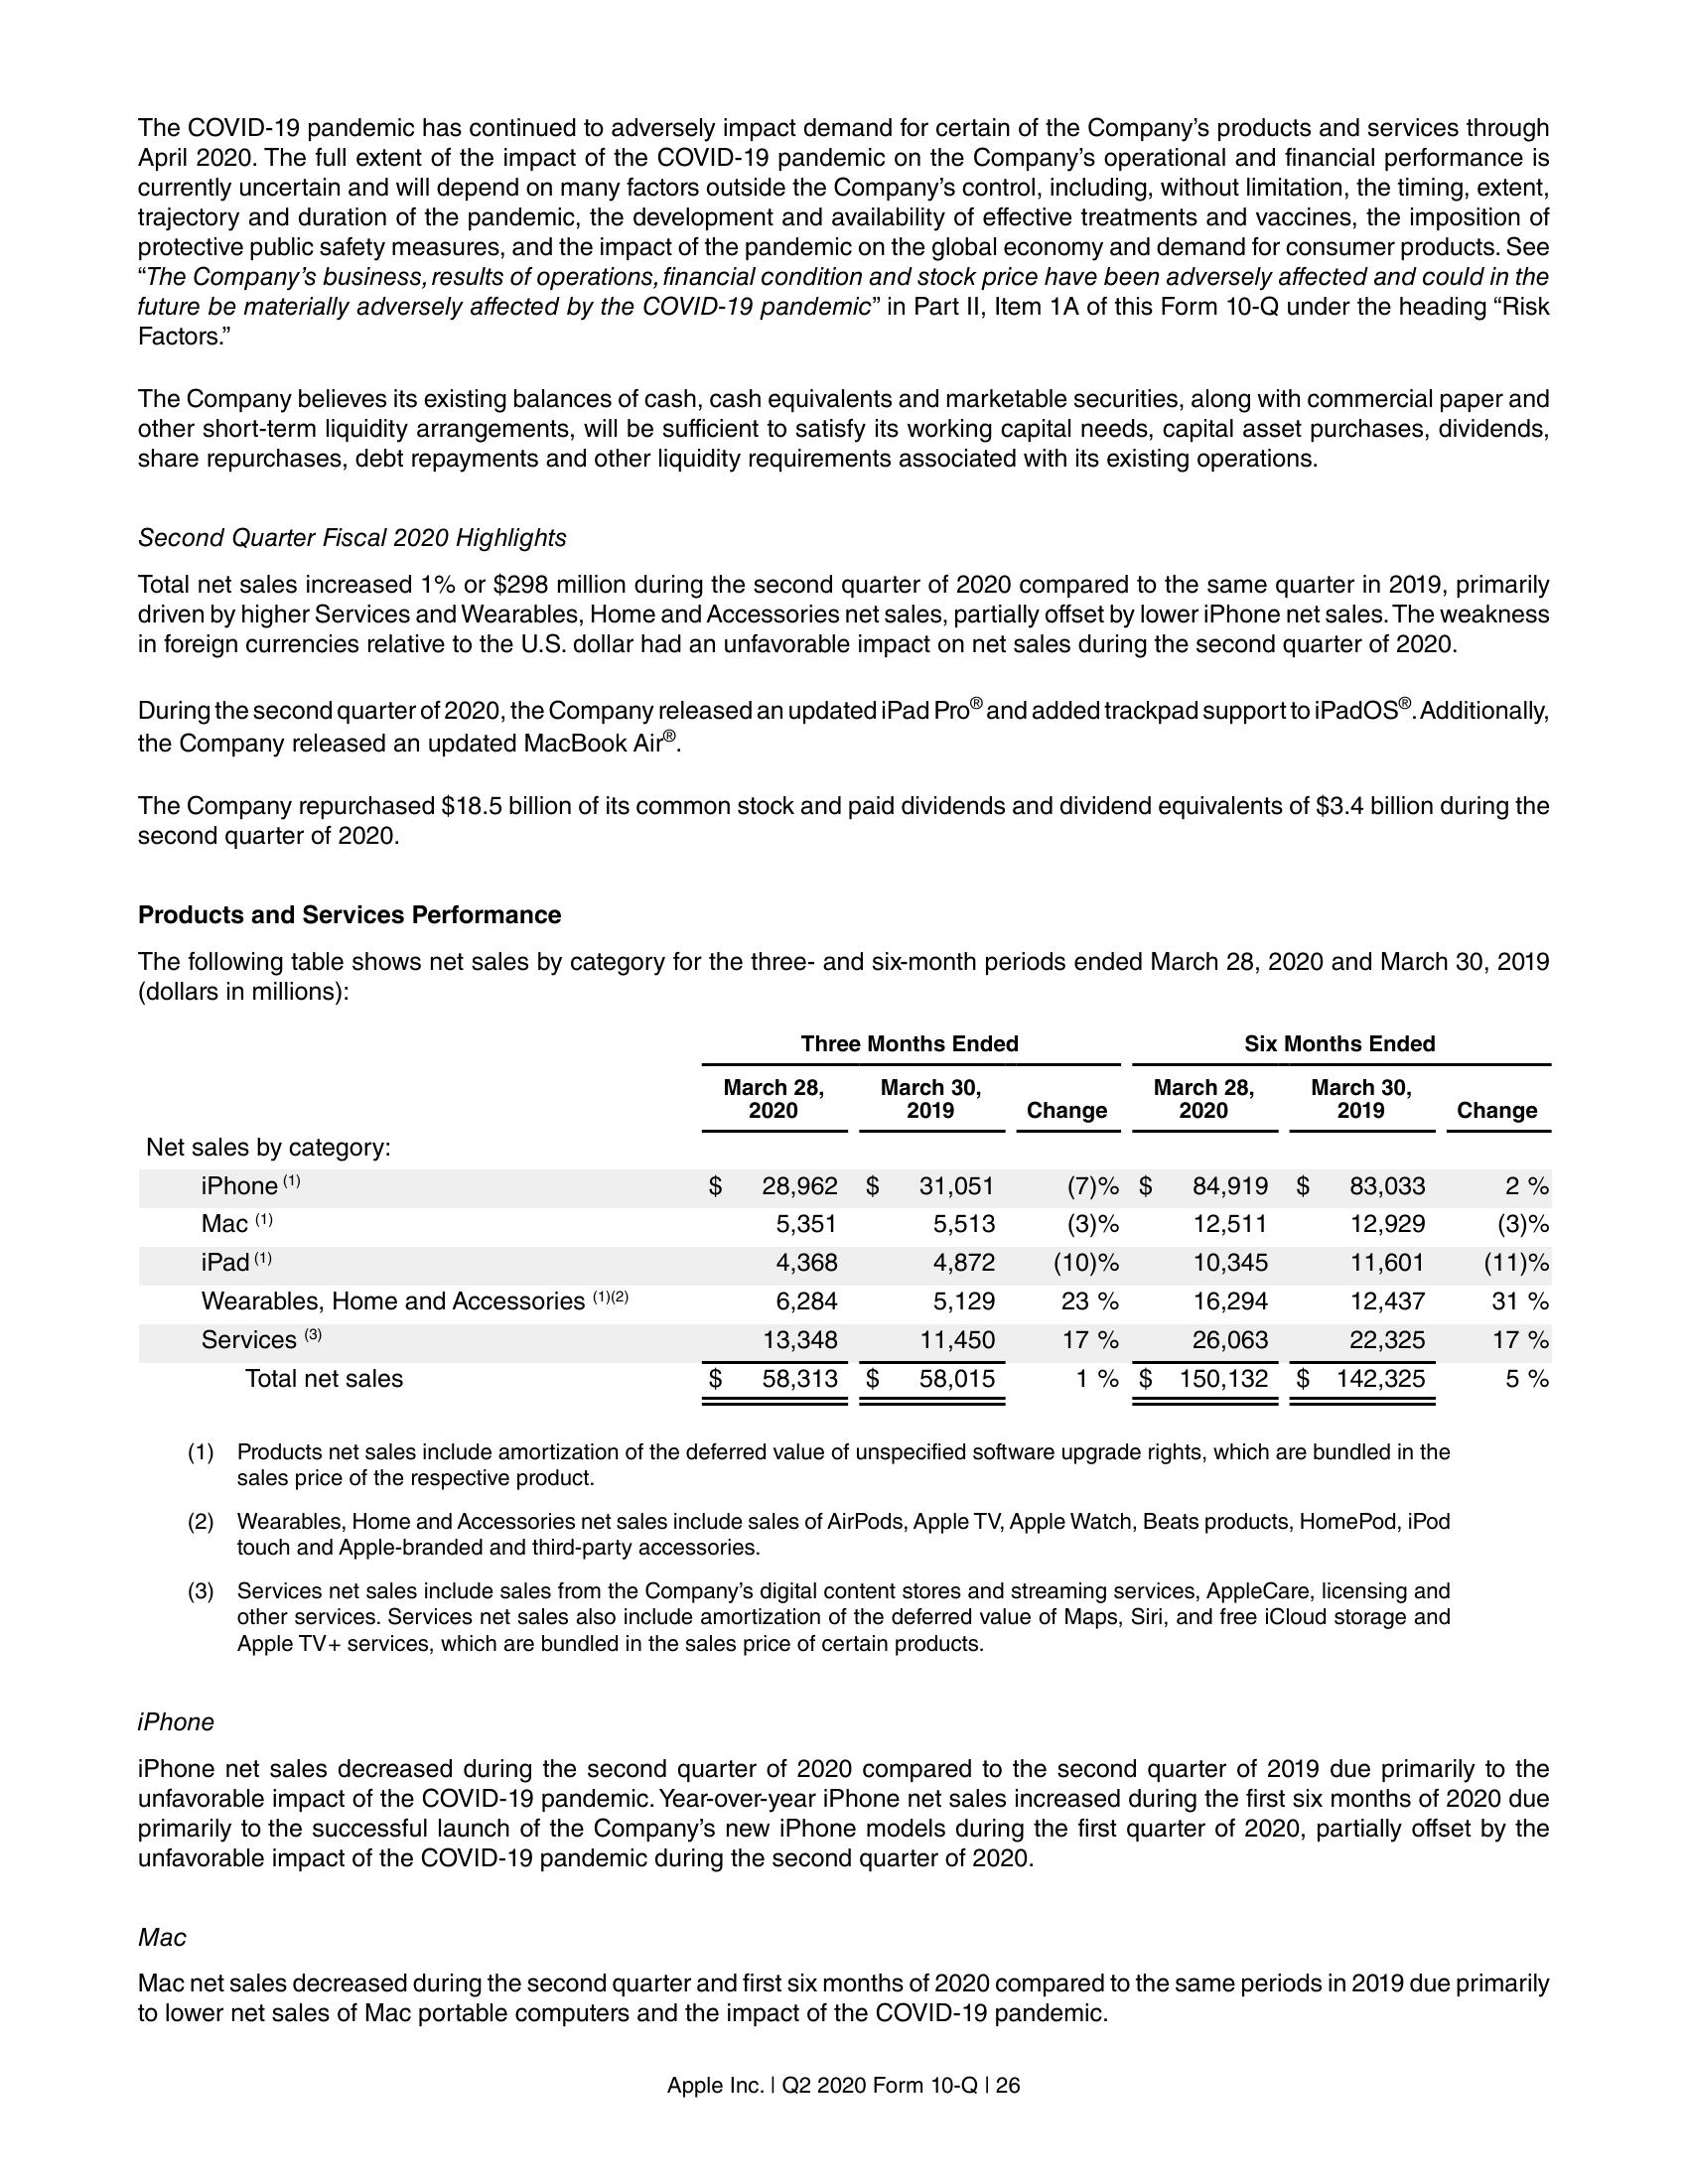table: (144, 1033, 1562, 1409)
